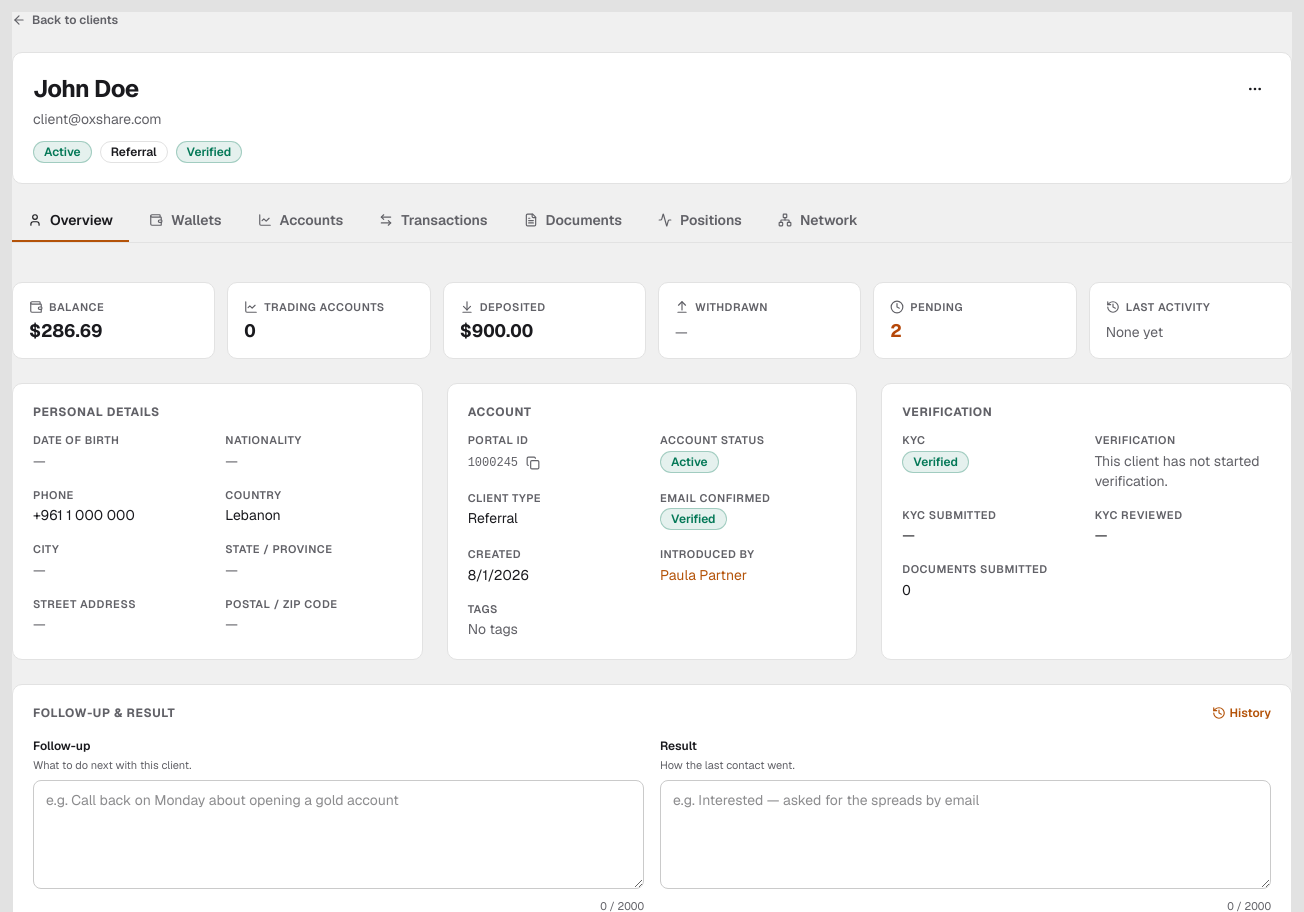
it: the actions menu (owner, 26 Sep and 7 Oct 2026) › offers a referral "Move to another partner" (15 Oct 2026)
What coordinates should you click on to do the following:
click the button named "actions for"
I would click on:
 (1255, 89)
Its box is [1239,73,1271,105].
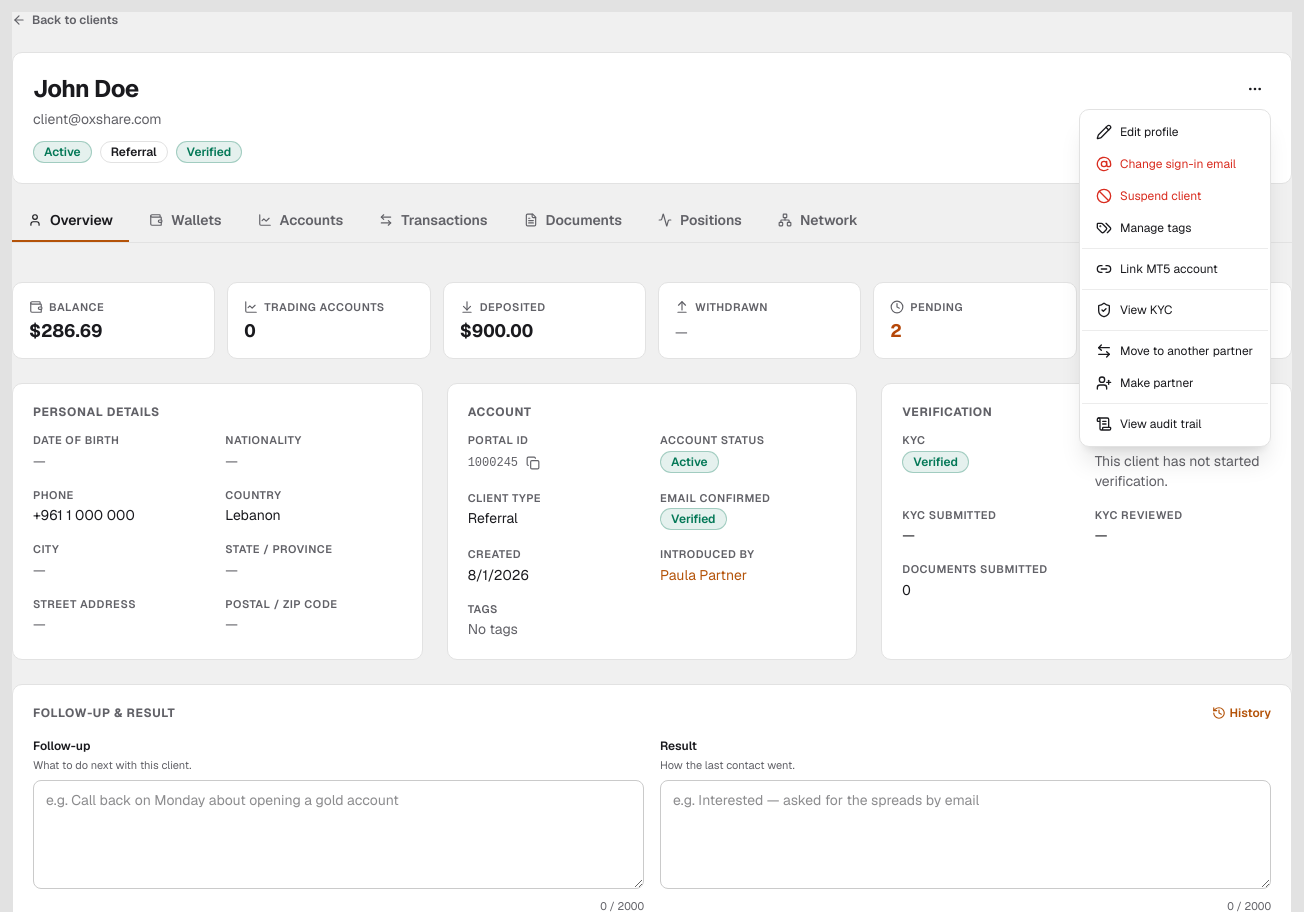
Expected: the menu item "Edit profile" is shown, [1096,124,1179,140]
Expected: the menu item "Move to another partner" is shown, [1096,343,1253,359]
